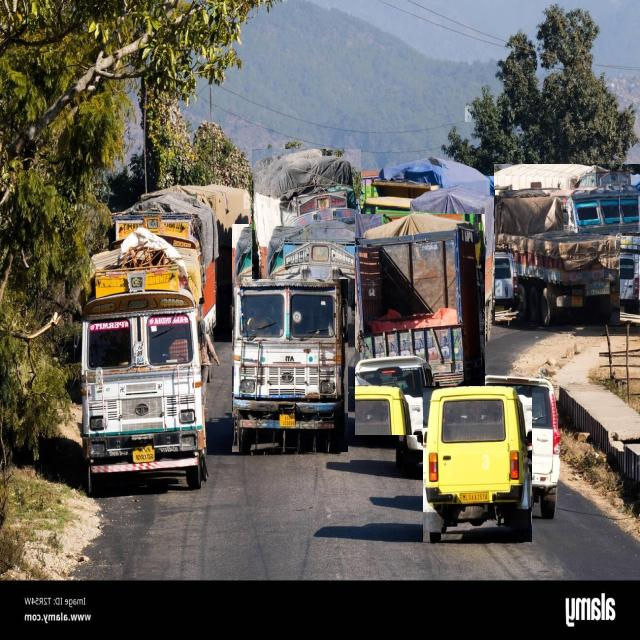car: (423, 386, 531, 542), (474, 374, 561, 518), (396, 355, 485, 474)
truck: (81, 226, 206, 495), (355, 214, 485, 435), (232, 225, 348, 452), (495, 190, 620, 325), (252, 149, 360, 279), (494, 165, 640, 233)
